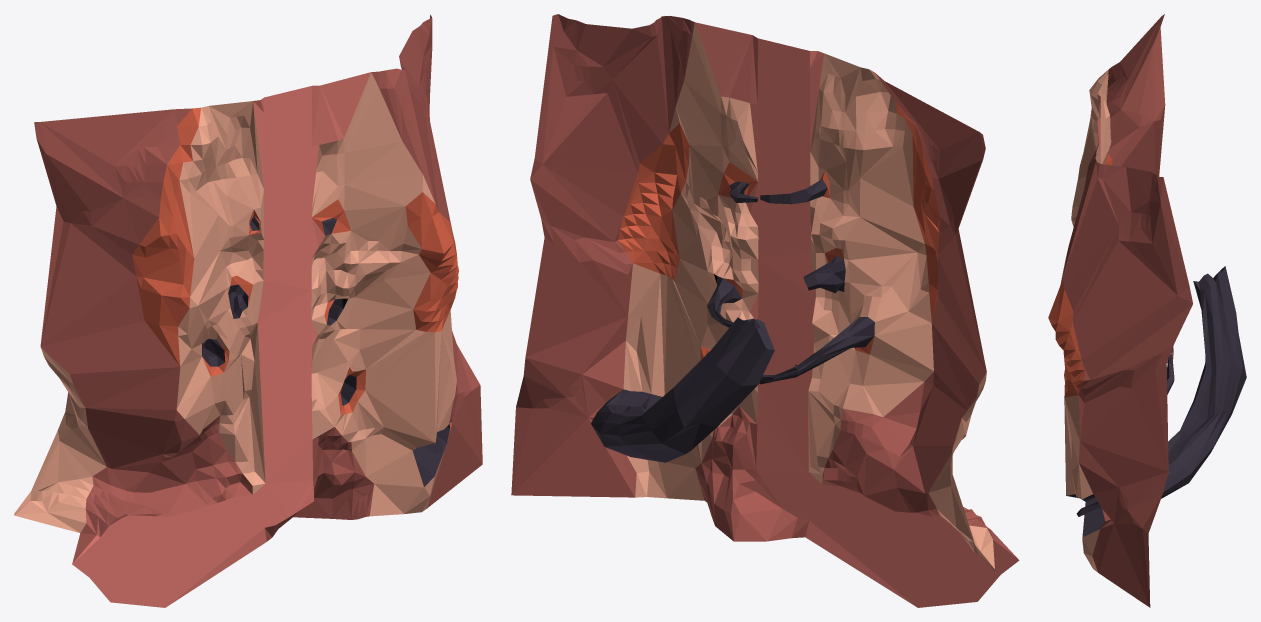
The model's file is RingsTerrainStrait.fbx.
3 renders of one model, left to right at view 1: azimuth 30°, elevation 25°; view 2: azimuth 150°, elevation 25°; view 3: azimuth 270°, elevation 25°, orthographic. The views are drawn at different scales.
Parts seen in each view (by area): view 1: Plane; view 2: Plane; view 3: Plane.
Part boxes in pixels (bbox=[...]): Plane: bbox=[14, 14, 482, 607]; Plane: bbox=[511, 14, 1019, 607]; Plane: bbox=[1048, 14, 1246, 607].
Bounding box in the file's own units: 58.57 × 60.79 × 24.51.
Materials: 1 (1 with a texture image).
